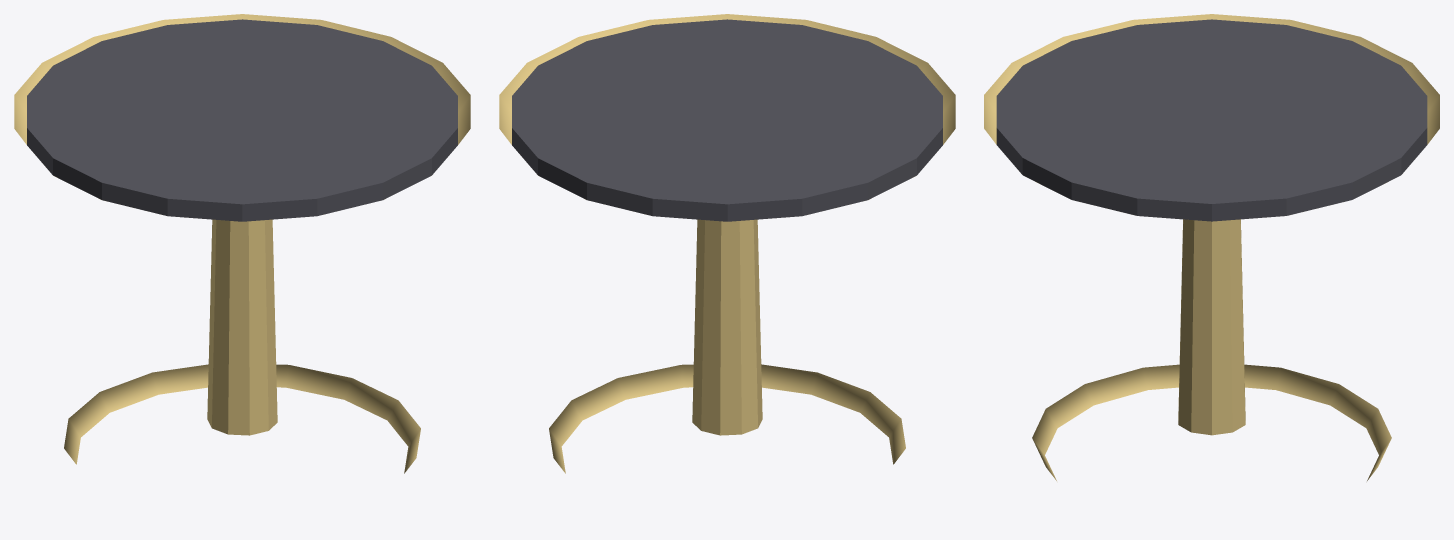
File: casino-floor-and-back-rooms-cocktail-table-329ca6f8.glb
3 renders of one model, left to right at view 1: azimuth 30°, elevation 25°; view 2: azimuth 150°, elevation 25°; view 3: azimuth 270°, elevation 25°, orthographic.
Parts seen in each view (by area): view 1: cocktail-table; view 2: cocktail-table; view 3: cocktail-table.
Boxes of the visible parts, box(x1,y1,x2,y2) form: cocktail-table: box(14, 14, 470, 473); cocktail-table: box(499, 14, 955, 473); cocktail-table: box(984, 14, 1439, 480).
Bounding box in the file's own units: 0.72 × 0.59 × 0.7091.
